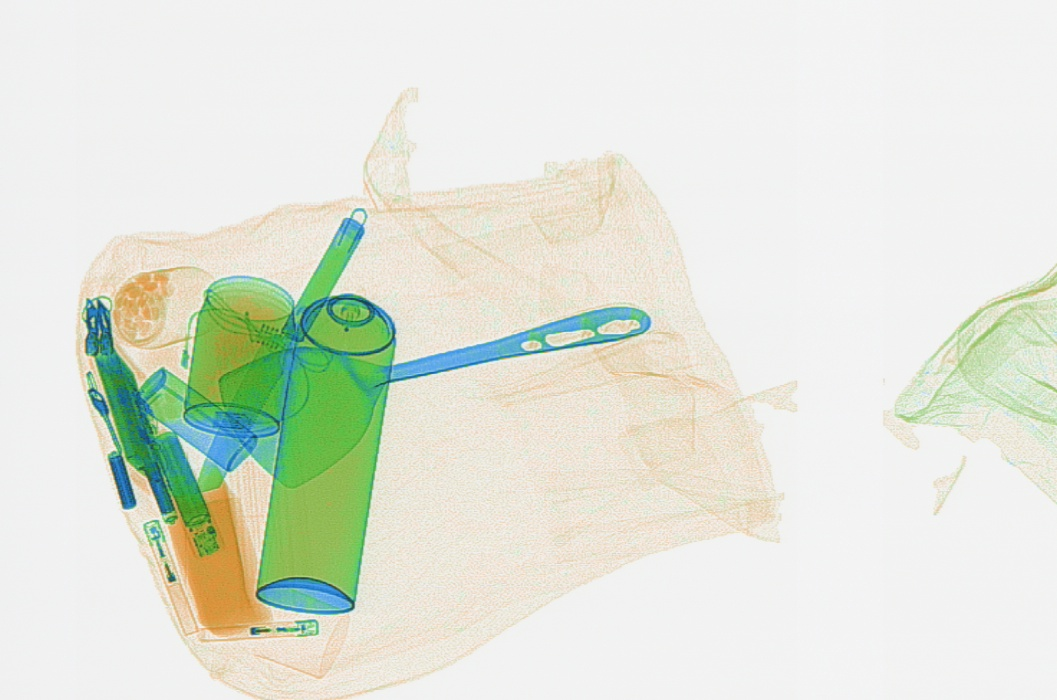knife: (184, 204, 372, 496)
lighter: (143, 518, 200, 633), (193, 615, 318, 646)
powerbank: (151, 427, 220, 558)
pressure: (252, 290, 396, 606)
